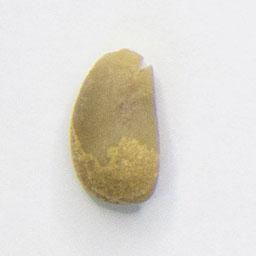longberry: (65, 43, 165, 208)
